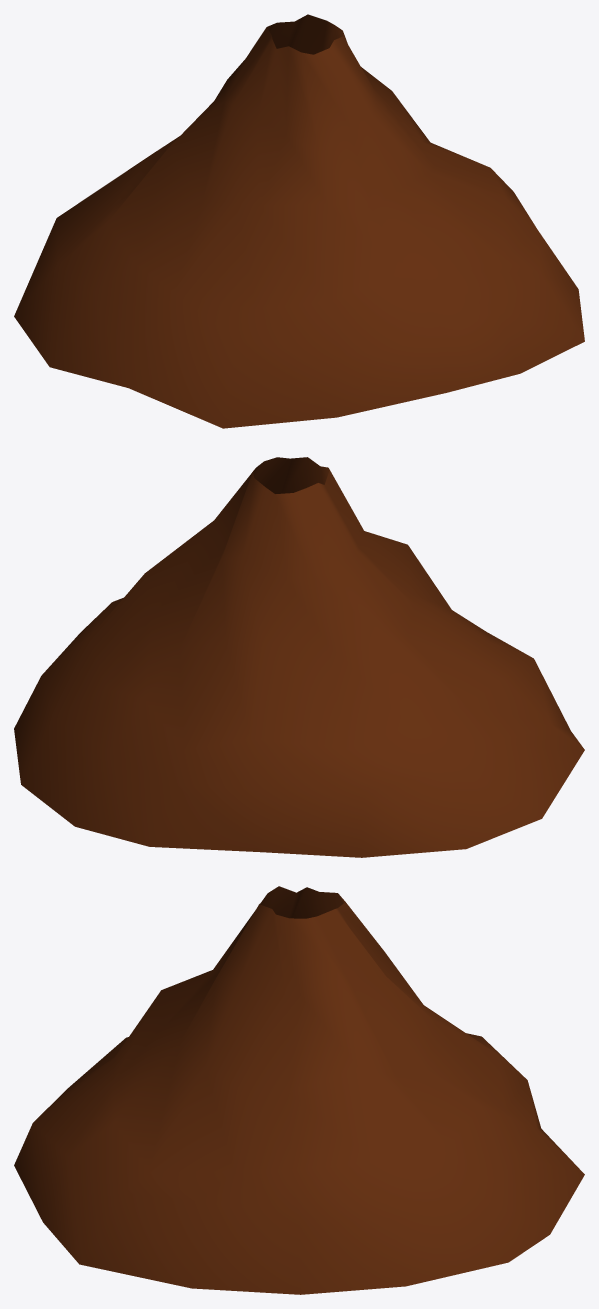
File: volcan.fbx
3 renders of one model, top to bottom at view 1: azimuth 30°, elevation 25°; view 2: azimuth 150°, elevation 25°; view 3: azimuth 270°, elevation 25°, orthographic. The views are drawn at different scales.
Visible parts, largest first — view 1: Volcan; view 2: Volcan; view 3: Volcan.
Boxes of the visible parts, box(x1,y1,x2,y2) form: Volcan: box(14, 14, 584, 428); Volcan: box(14, 457, 584, 857); Volcan: box(14, 886, 584, 1294).
Size of the model in its own units: 868 by 482 by 859.
